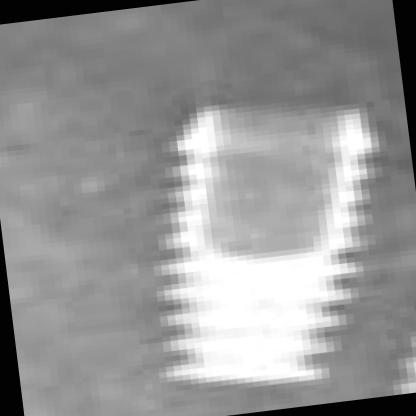Bicon: (134, 84, 404, 398)
